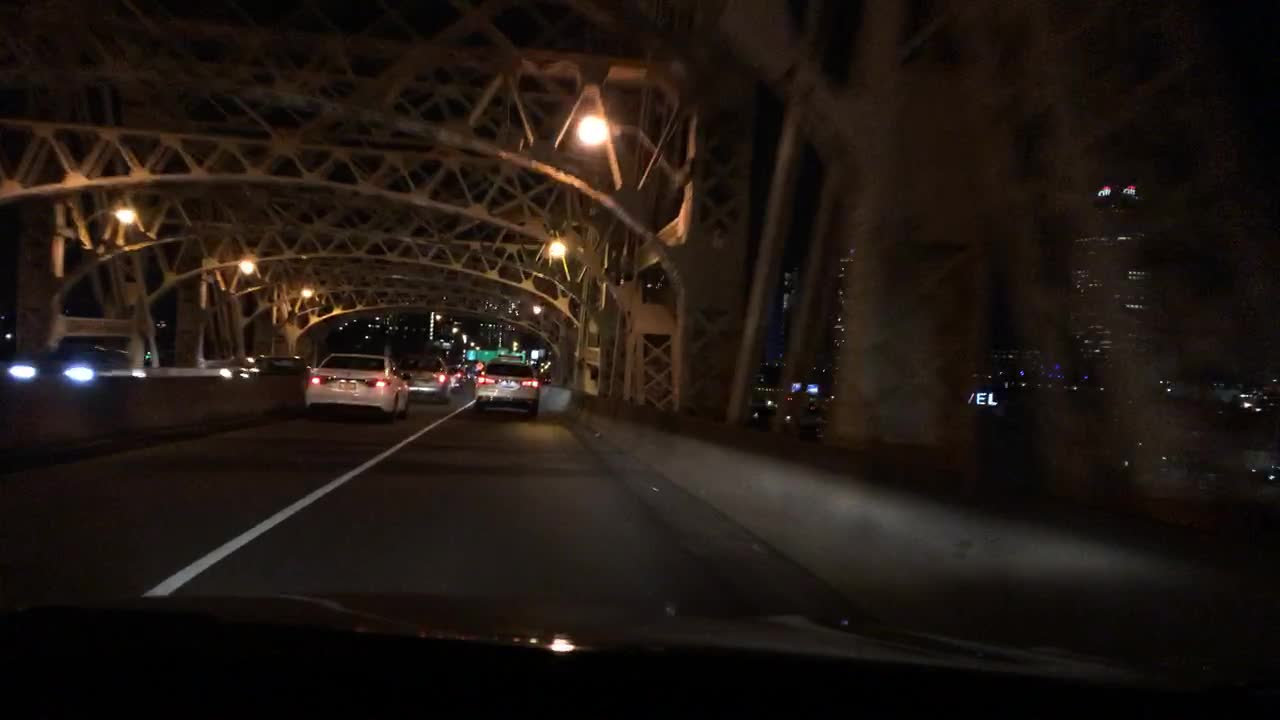car: (302, 353, 409, 423), (6, 346, 135, 379), (472, 359, 540, 417), (395, 351, 451, 404), (251, 354, 311, 375), (198, 357, 259, 377), (529, 358, 550, 385), (435, 340, 463, 356), (448, 363, 464, 390), (463, 362, 478, 379)
traffic light: (465, 349, 475, 360)
traffic sign: (476, 349, 504, 358), (475, 361, 483, 369)
